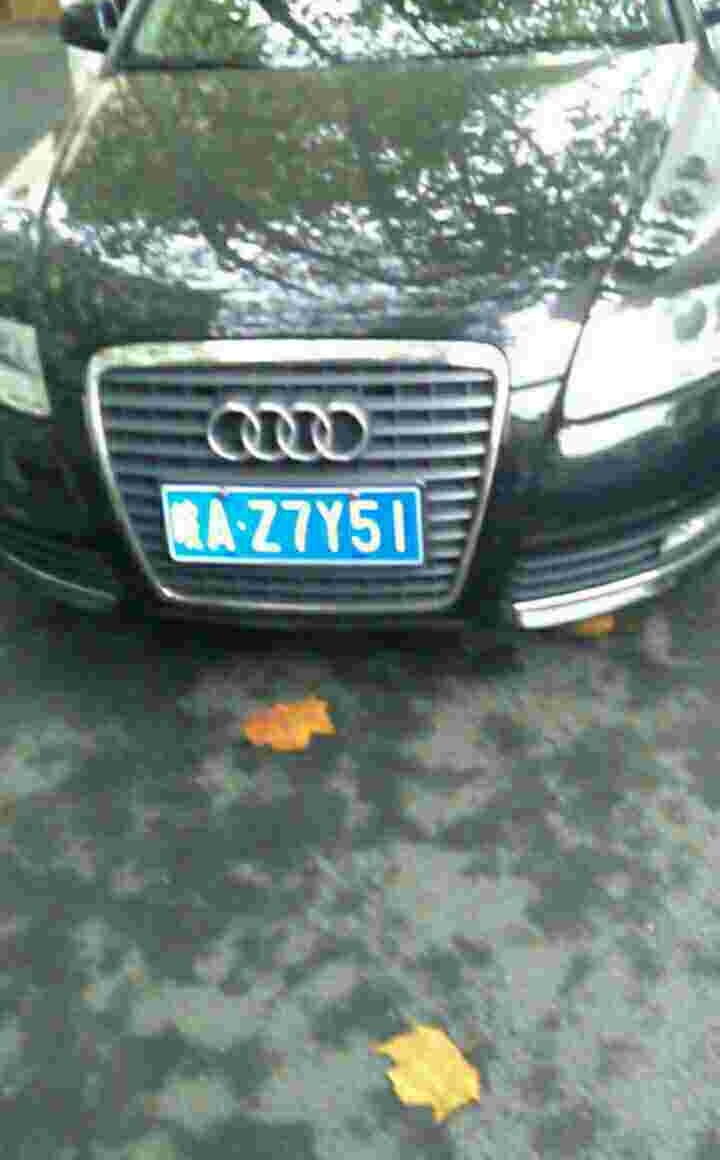plate: (159, 482, 433, 569)
